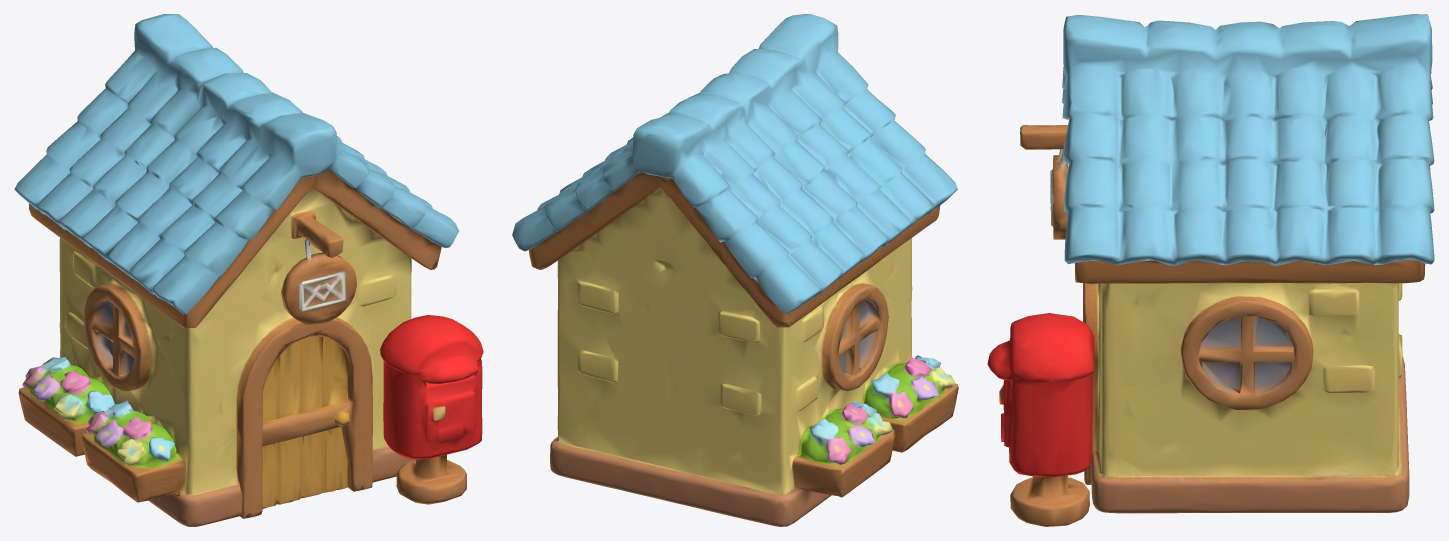
Rendered from poste.glb.
3 renders of one model, left to right at view 1: azimuth 30°, elevation 25°; view 2: azimuth 150°, elevation 25°; view 3: azimuth 270°, elevation 25°, orthographic. The views are drawn at different scales.
Visible parts, largest first — view 1: tripo_node_97a72af9-92d7-4b7f-ba0e-56119ddbe506; view 2: tripo_node_97a72af9-92d7-4b7f-ba0e-56119ddbe506; view 3: tripo_node_97a72af9-92d7-4b7f-ba0e-56119ddbe506.
Boxes of the visible parts, box(x1,y1,x2,y2) form: tripo_node_97a72af9-92d7-4b7f-ba0e-56119ddbe506: box(14, 14, 483, 526); tripo_node_97a72af9-92d7-4b7f-ba0e-56119ddbe506: box(512, 14, 958, 526); tripo_node_97a72af9-92d7-4b7f-ba0e-56119ddbe506: box(987, 14, 1434, 526).
Bounding box in the file's own units: 0.8838 × 1 × 0.9368.
Materials: 1 (1 with a texture image).
